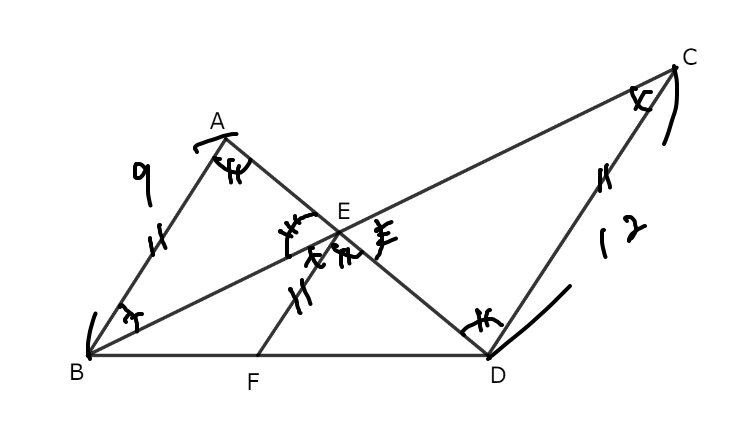Angle_CurveDline: (460, 304, 507, 338), (213, 151, 256, 187), (328, 235, 365, 272)
Angle_CurveSline: (624, 79, 659, 118), (115, 298, 144, 339), (300, 243, 328, 271)
Edge_Dline: (286, 275, 314, 315), (141, 226, 172, 260), (596, 155, 618, 195)
